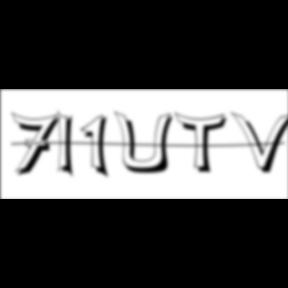1: (80, 114, 115, 182)
7: (12, 111, 66, 179)
T: (175, 112, 233, 176)
U: (114, 110, 180, 176)
l: (58, 108, 80, 182)
